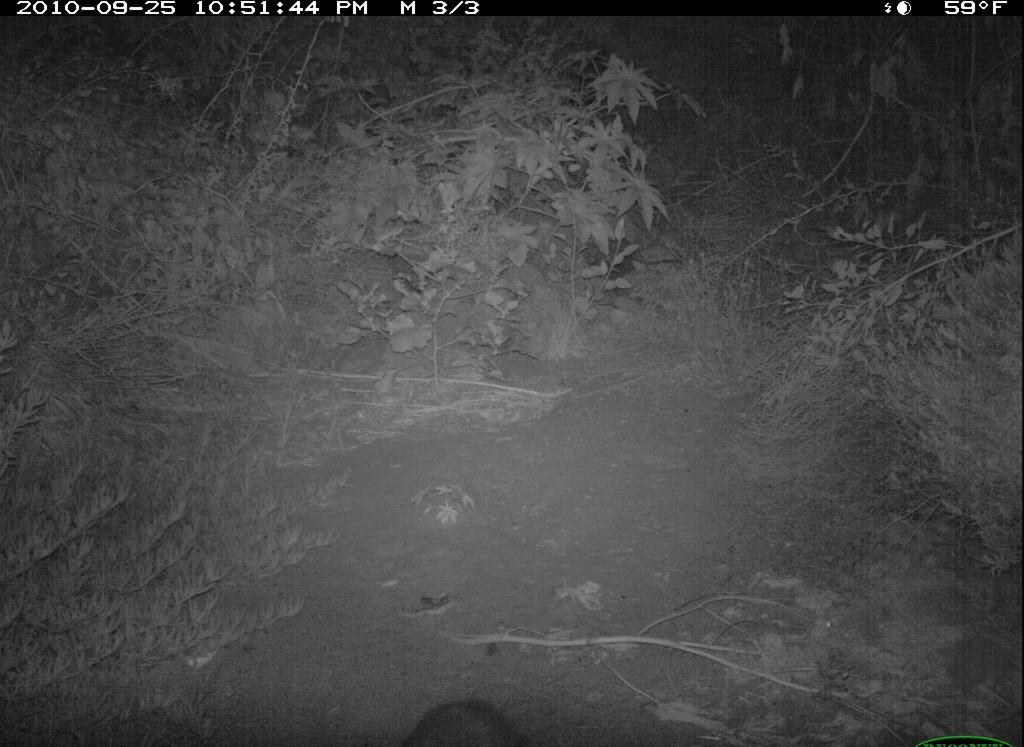raccoon: (401, 670, 543, 747)
